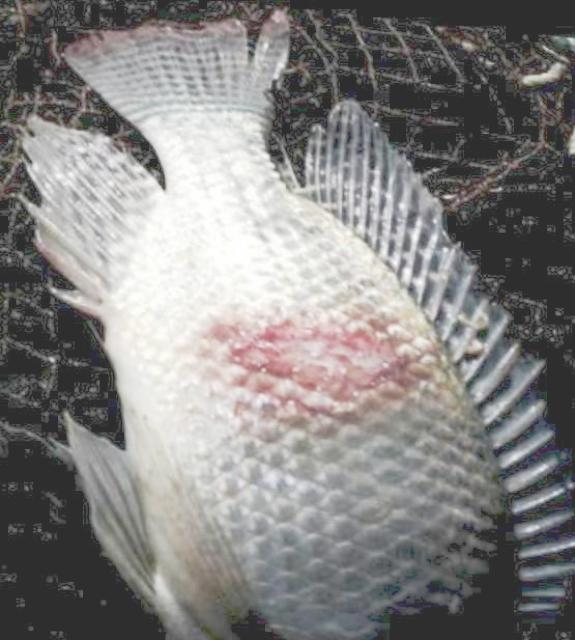Tilapia Lake Virus -TiLV-: (21, 11, 547, 639)
